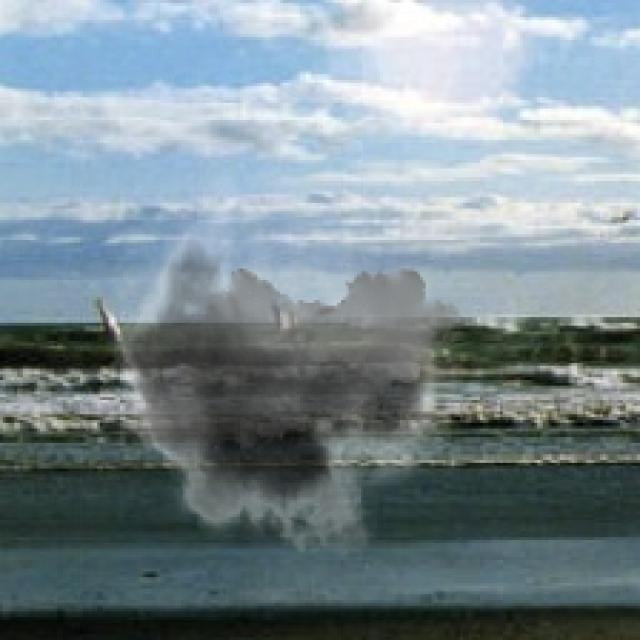Smoke: (91, 157, 463, 574)
